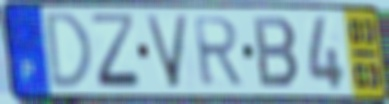4: (305, 14, 348, 92)
B: (251, 14, 303, 91)
D: (44, 10, 95, 93)
R: (190, 14, 246, 89)
V: (142, 13, 192, 91)
Z: (88, 11, 145, 92)
